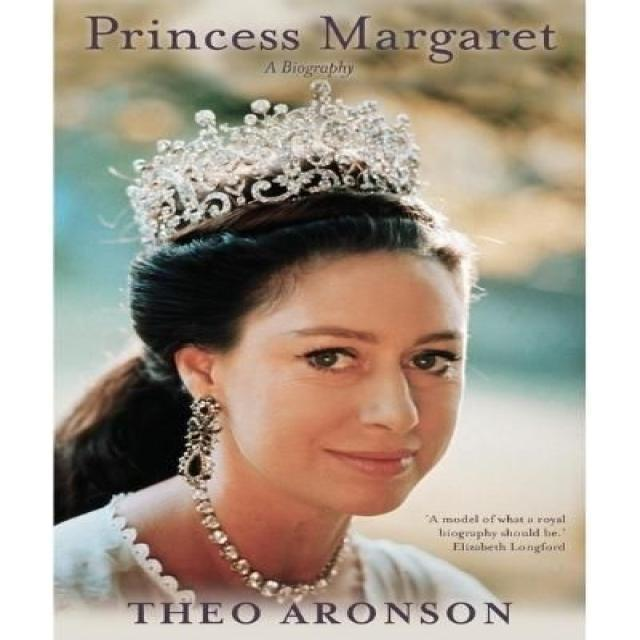Earring: (169, 396, 226, 496)
